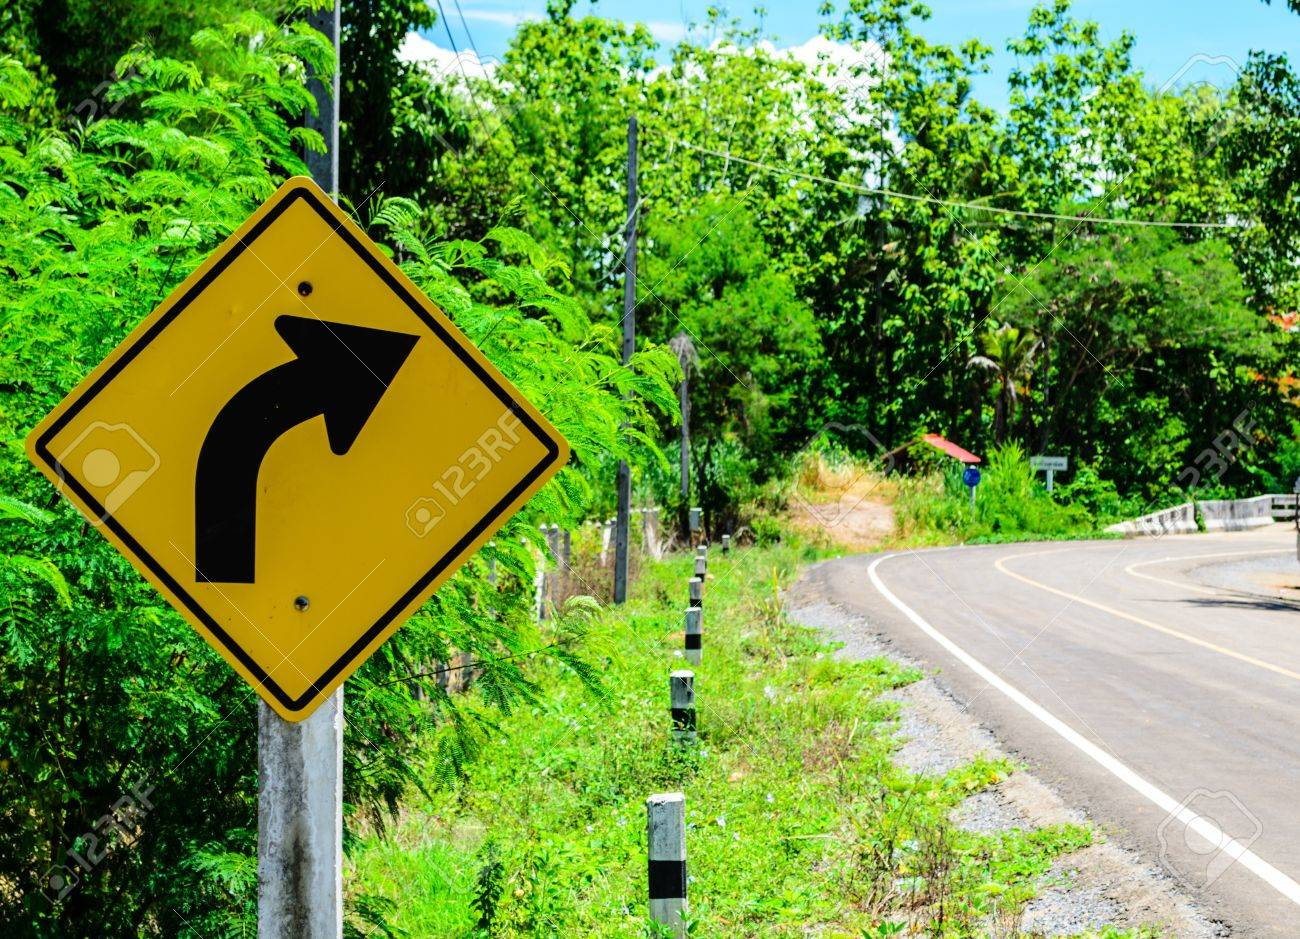right: (16, 170, 574, 733)
